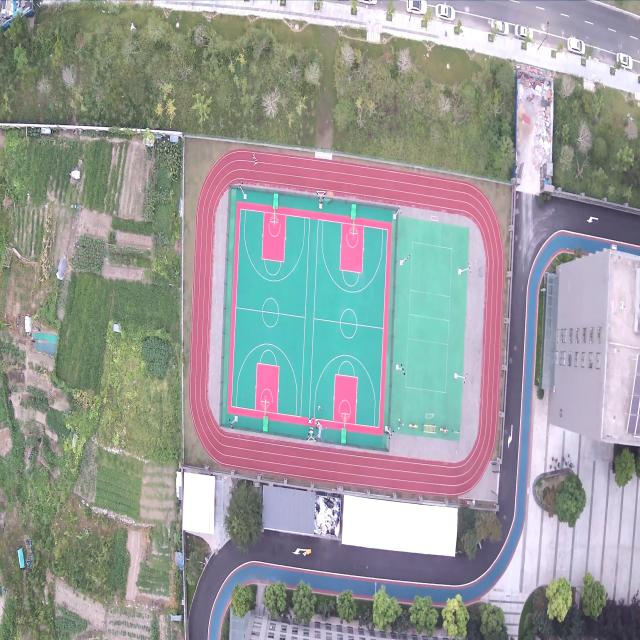drone: (313, 422, 327, 444)
